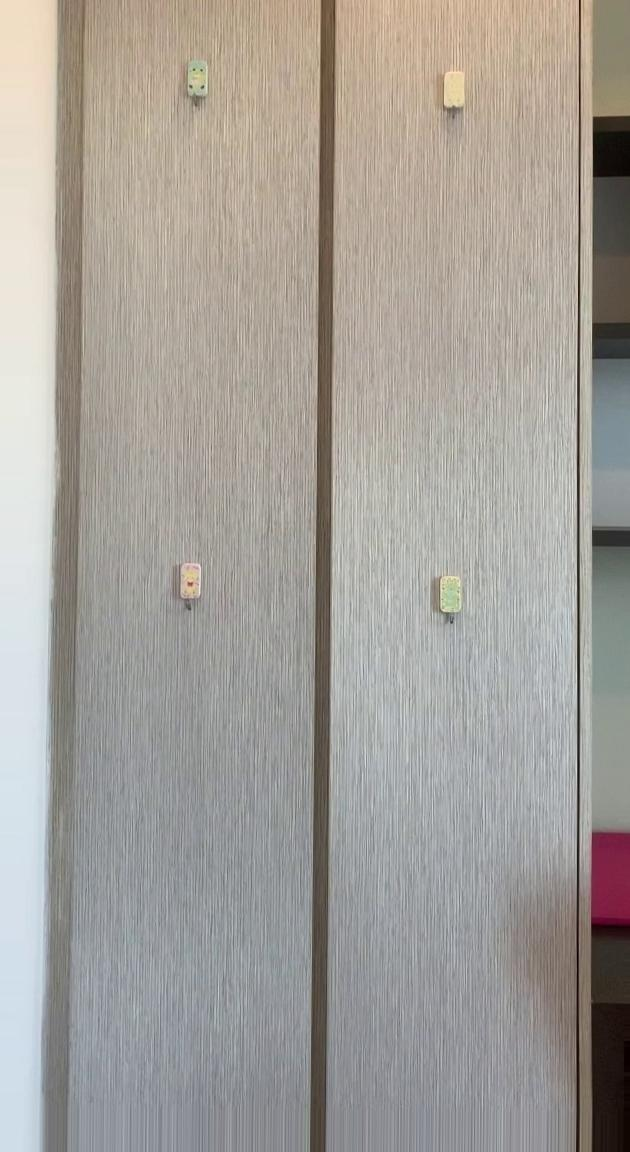Armario: (48, 7, 597, 1146)
